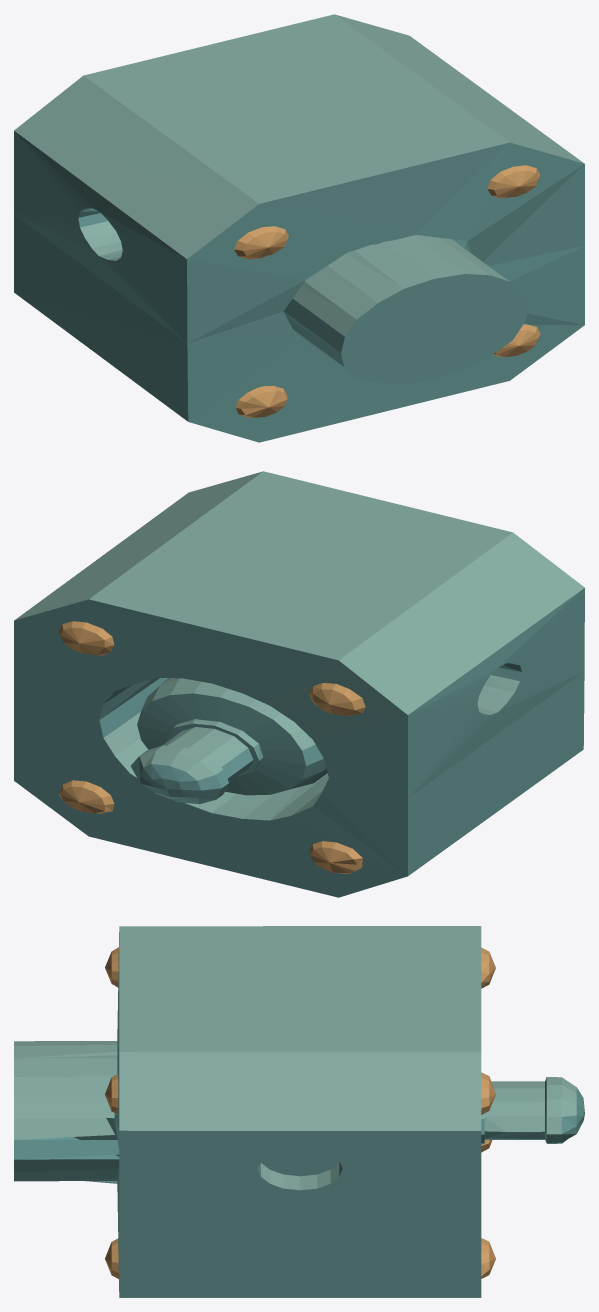
Rendered from cric_carter.glb.
3 renders of one model, top to bottom at view 1: azimuth 30°, elevation 25°; view 2: azimuth 150°, elevation 25°; view 3: azimuth 270°, elevation 25°, orthographic. The views are drawn at different scales.
Visible parts, largest first — view 1: Carter du cric; view 2: Carter du cric; view 3: Carter du cric.
Boxes of the visible parts, x1,y1,x2,y2 form: Carter du cric: [14, 14, 584, 442]; Carter du cric: [14, 471, 584, 897]; Carter du cric: [14, 926, 584, 1297].
Bounding box in the file's own units: 0.2892 × 0.1658 × 0.348.
